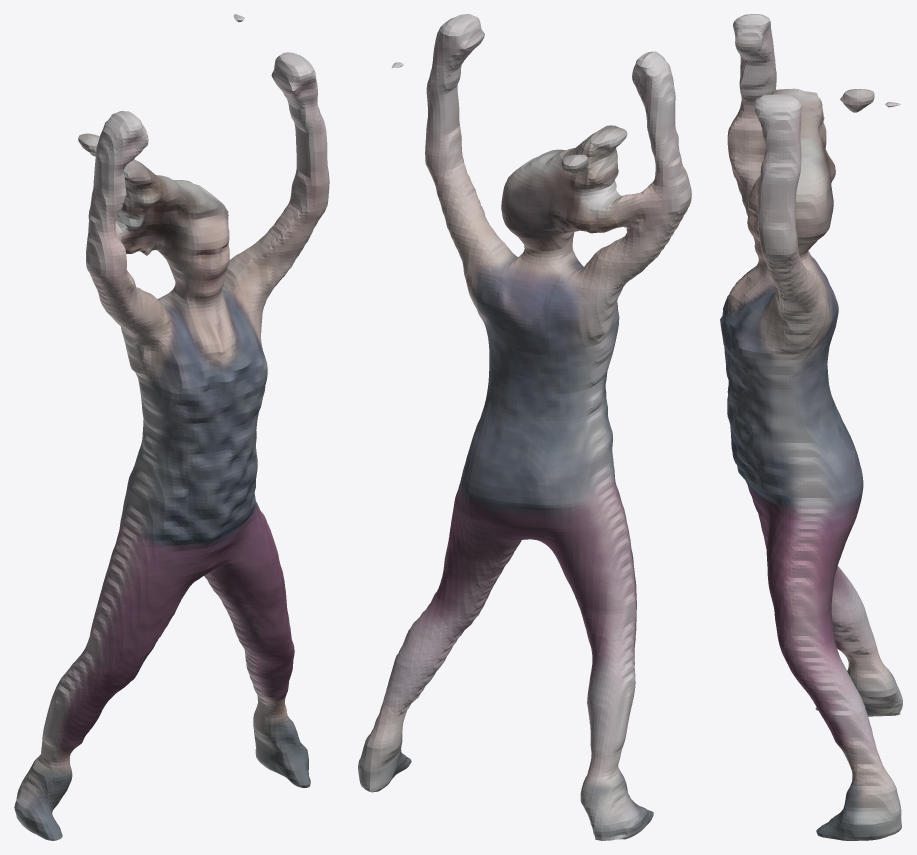
File: 0166_tex.glb
3 views of the same model, side by side, from view 1: azimuth 30°, elevation 25°; view 2: azimuth 150°, elevation 25°; view 3: azimuth 270°, elevation 25° (orthographic). The views are drawn at different scales.
Parts seen in each view (by area): view 1: 0166_tex.obj; view 2: 0166_tex.obj; view 3: 0166_tex.obj.
Part boxes in pixels (<box>): 0166_tex.obj: <box>14,14,329,840</box>; 0166_tex.obj: <box>358,14,691,840</box>; 0166_tex.obj: <box>720,14,902,840</box>.
Size of the model in its own units: 0.3493 by 0.8938 by 0.2051.
